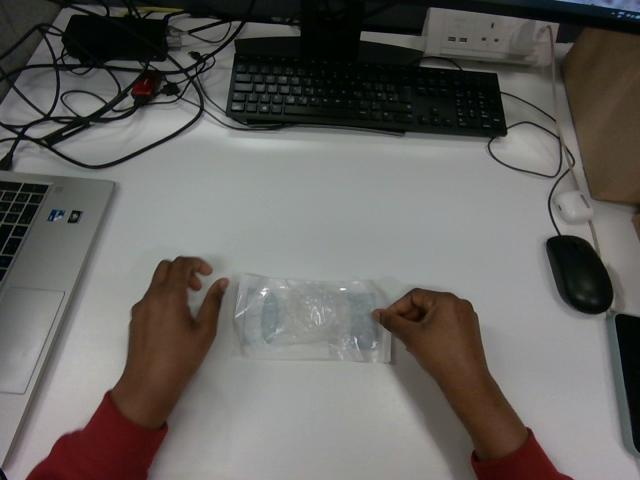gallipot: (234, 275, 390, 362)
